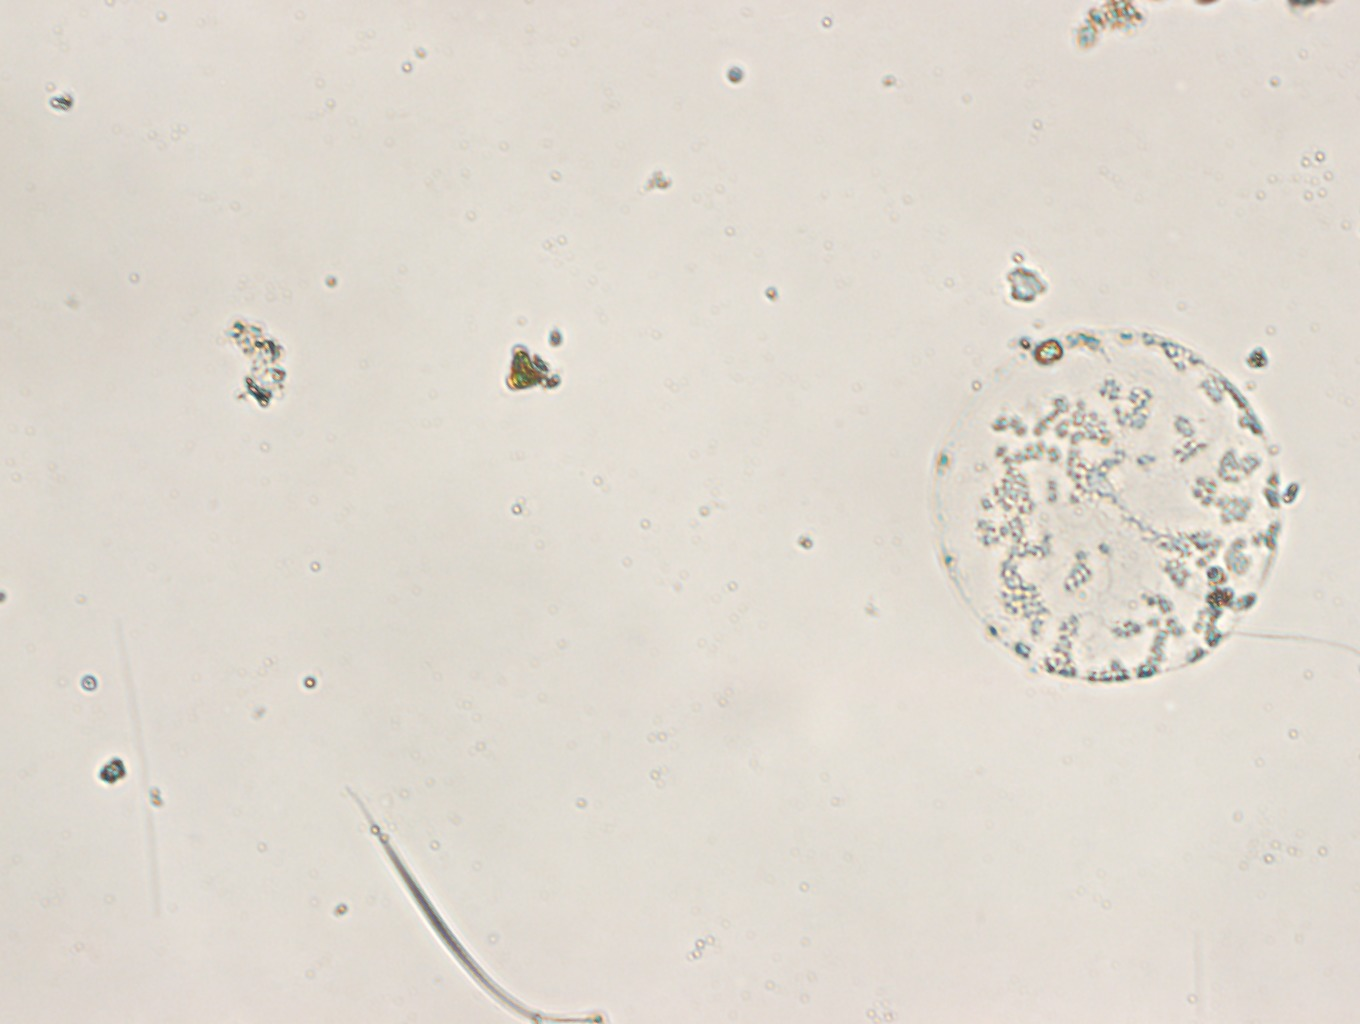coscinodiscus: (912, 321, 1292, 687)
